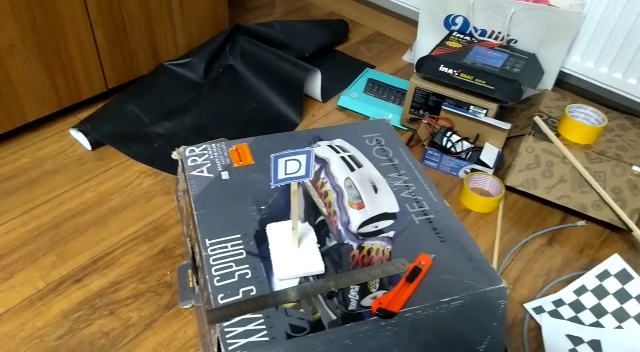durak: (267, 148, 315, 187)
